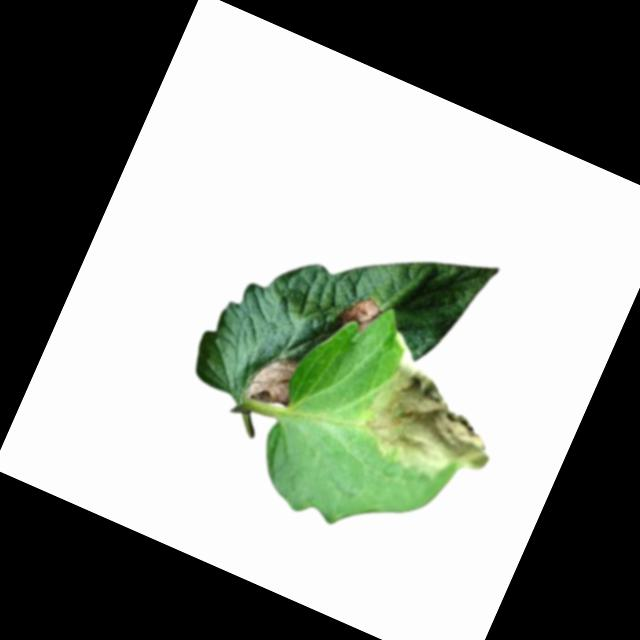Late_blight: (350, 352, 513, 500), (240, 346, 304, 413), (335, 288, 385, 338)
